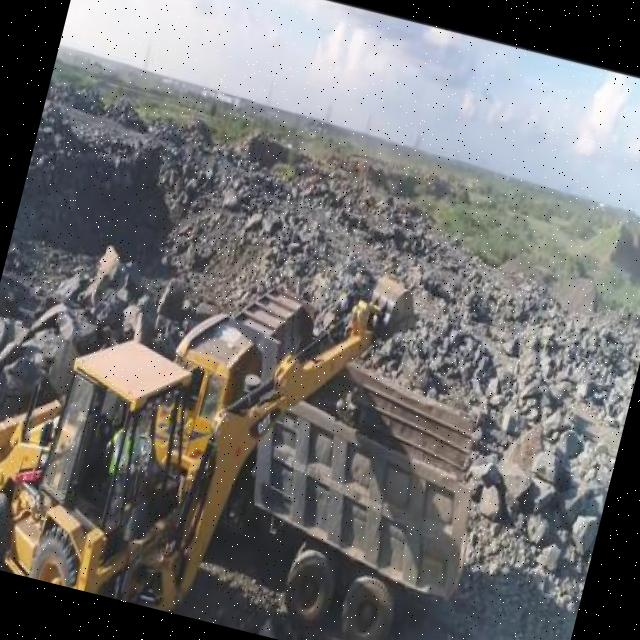Dump Truck: (109, 261, 518, 640)
